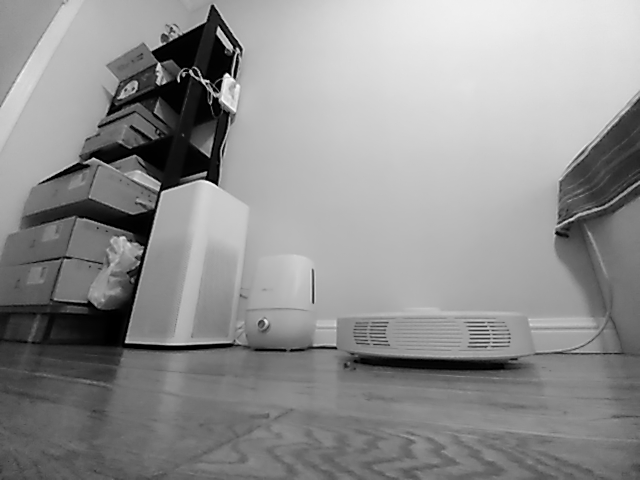wire: (532, 286, 615, 357)
